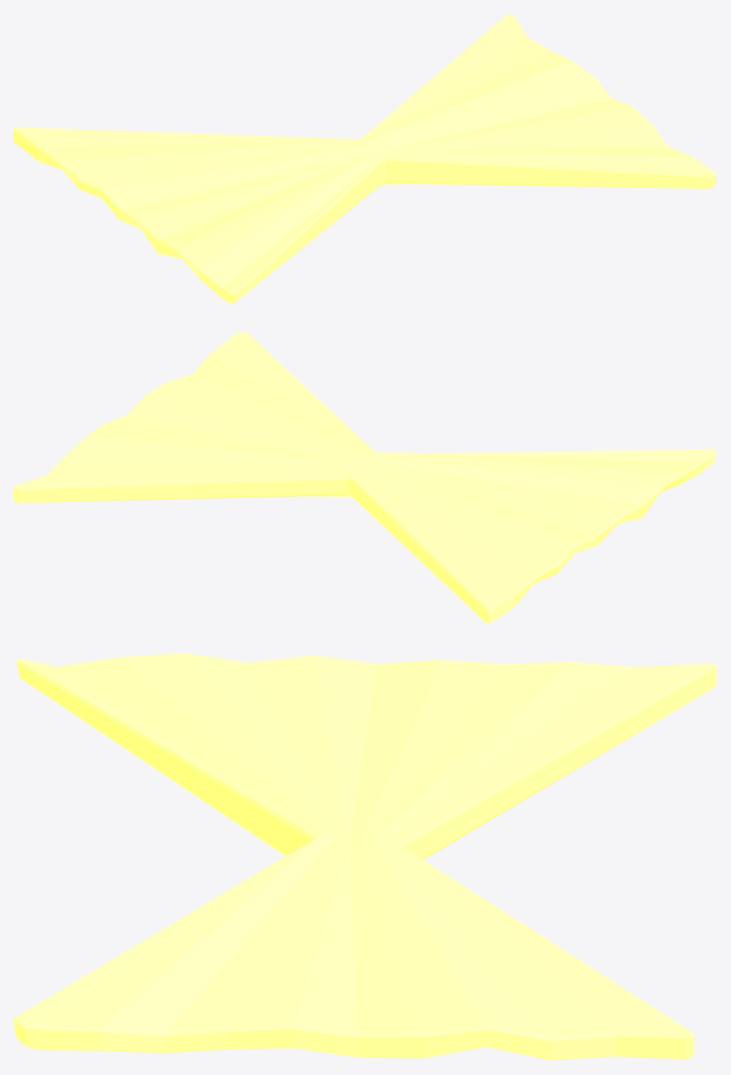
3 views of the same model, one above another, from view 1: azimuth 30°, elevation 25°; view 2: azimuth 150°, elevation 25°; view 3: azimuth 270°, elevation 25° (orthographic). The views are drawn at different scales.
Visible parts, largest first — view 1: Plane.012; view 2: Plane.012; view 3: Plane.012.
Part boxes in pixels (x1,y1,x2,y2): Plane.012: (14,14,716,303); Plane.012: (14,332,716,624); Plane.012: (14,653,716,1060).
Size of the model in its own units: 4.05 by 0.2735 by 3.17.
